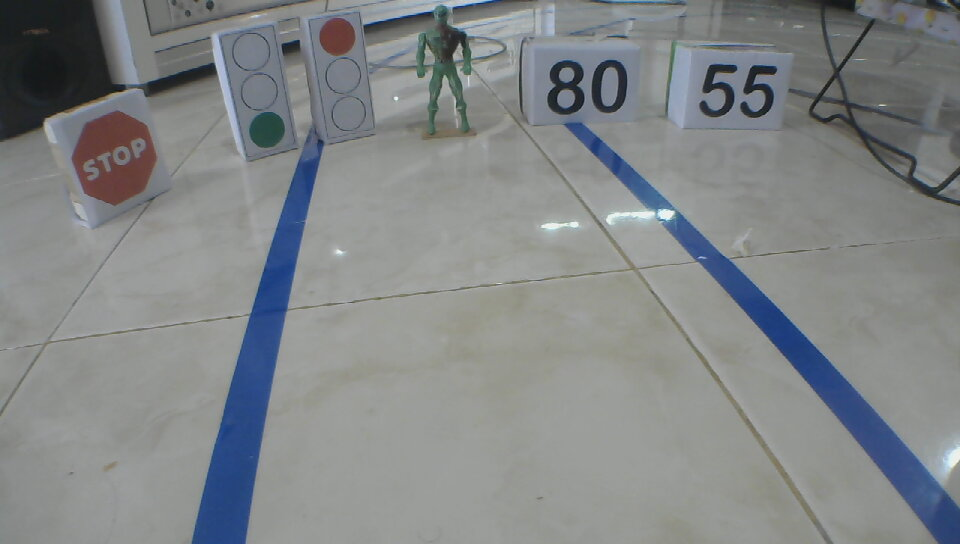Green Light: (231, 30, 287, 152)
Person: (414, 2, 473, 141)
Red Light: (317, 16, 367, 133)
Speed 55: (697, 64, 780, 121)
Speed 80: (543, 58, 628, 118)
Stop: (70, 111, 156, 204)
